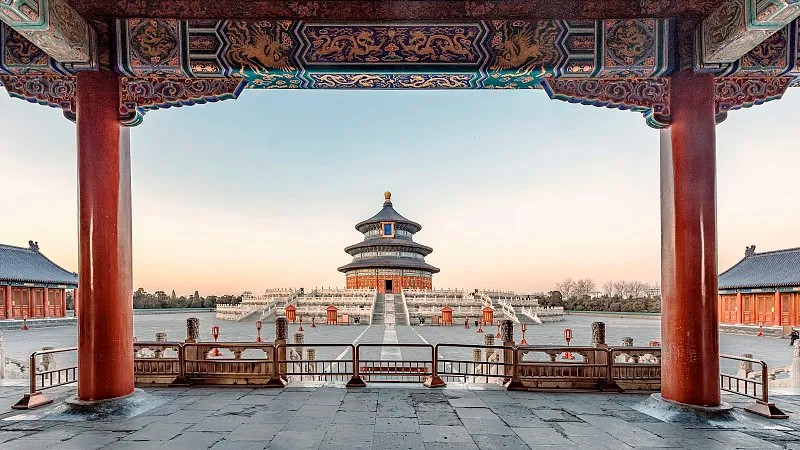Heaven: (337, 191, 440, 293)
